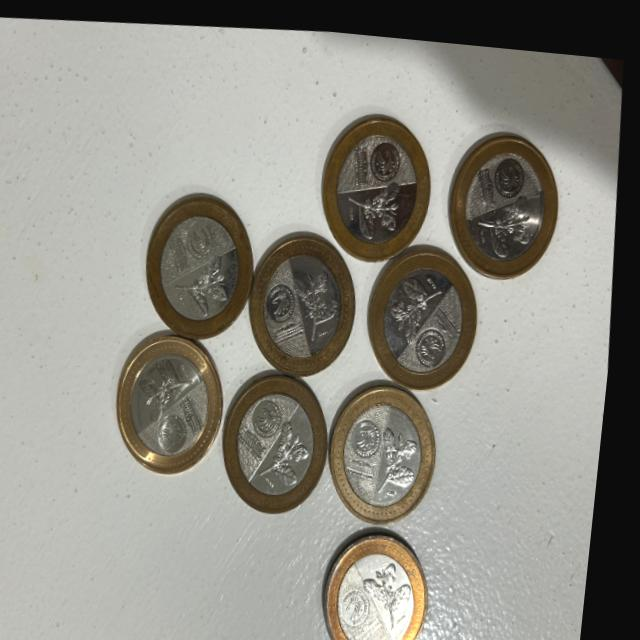20_New_Back: (141, 347, 203, 414), (173, 251, 237, 312)
